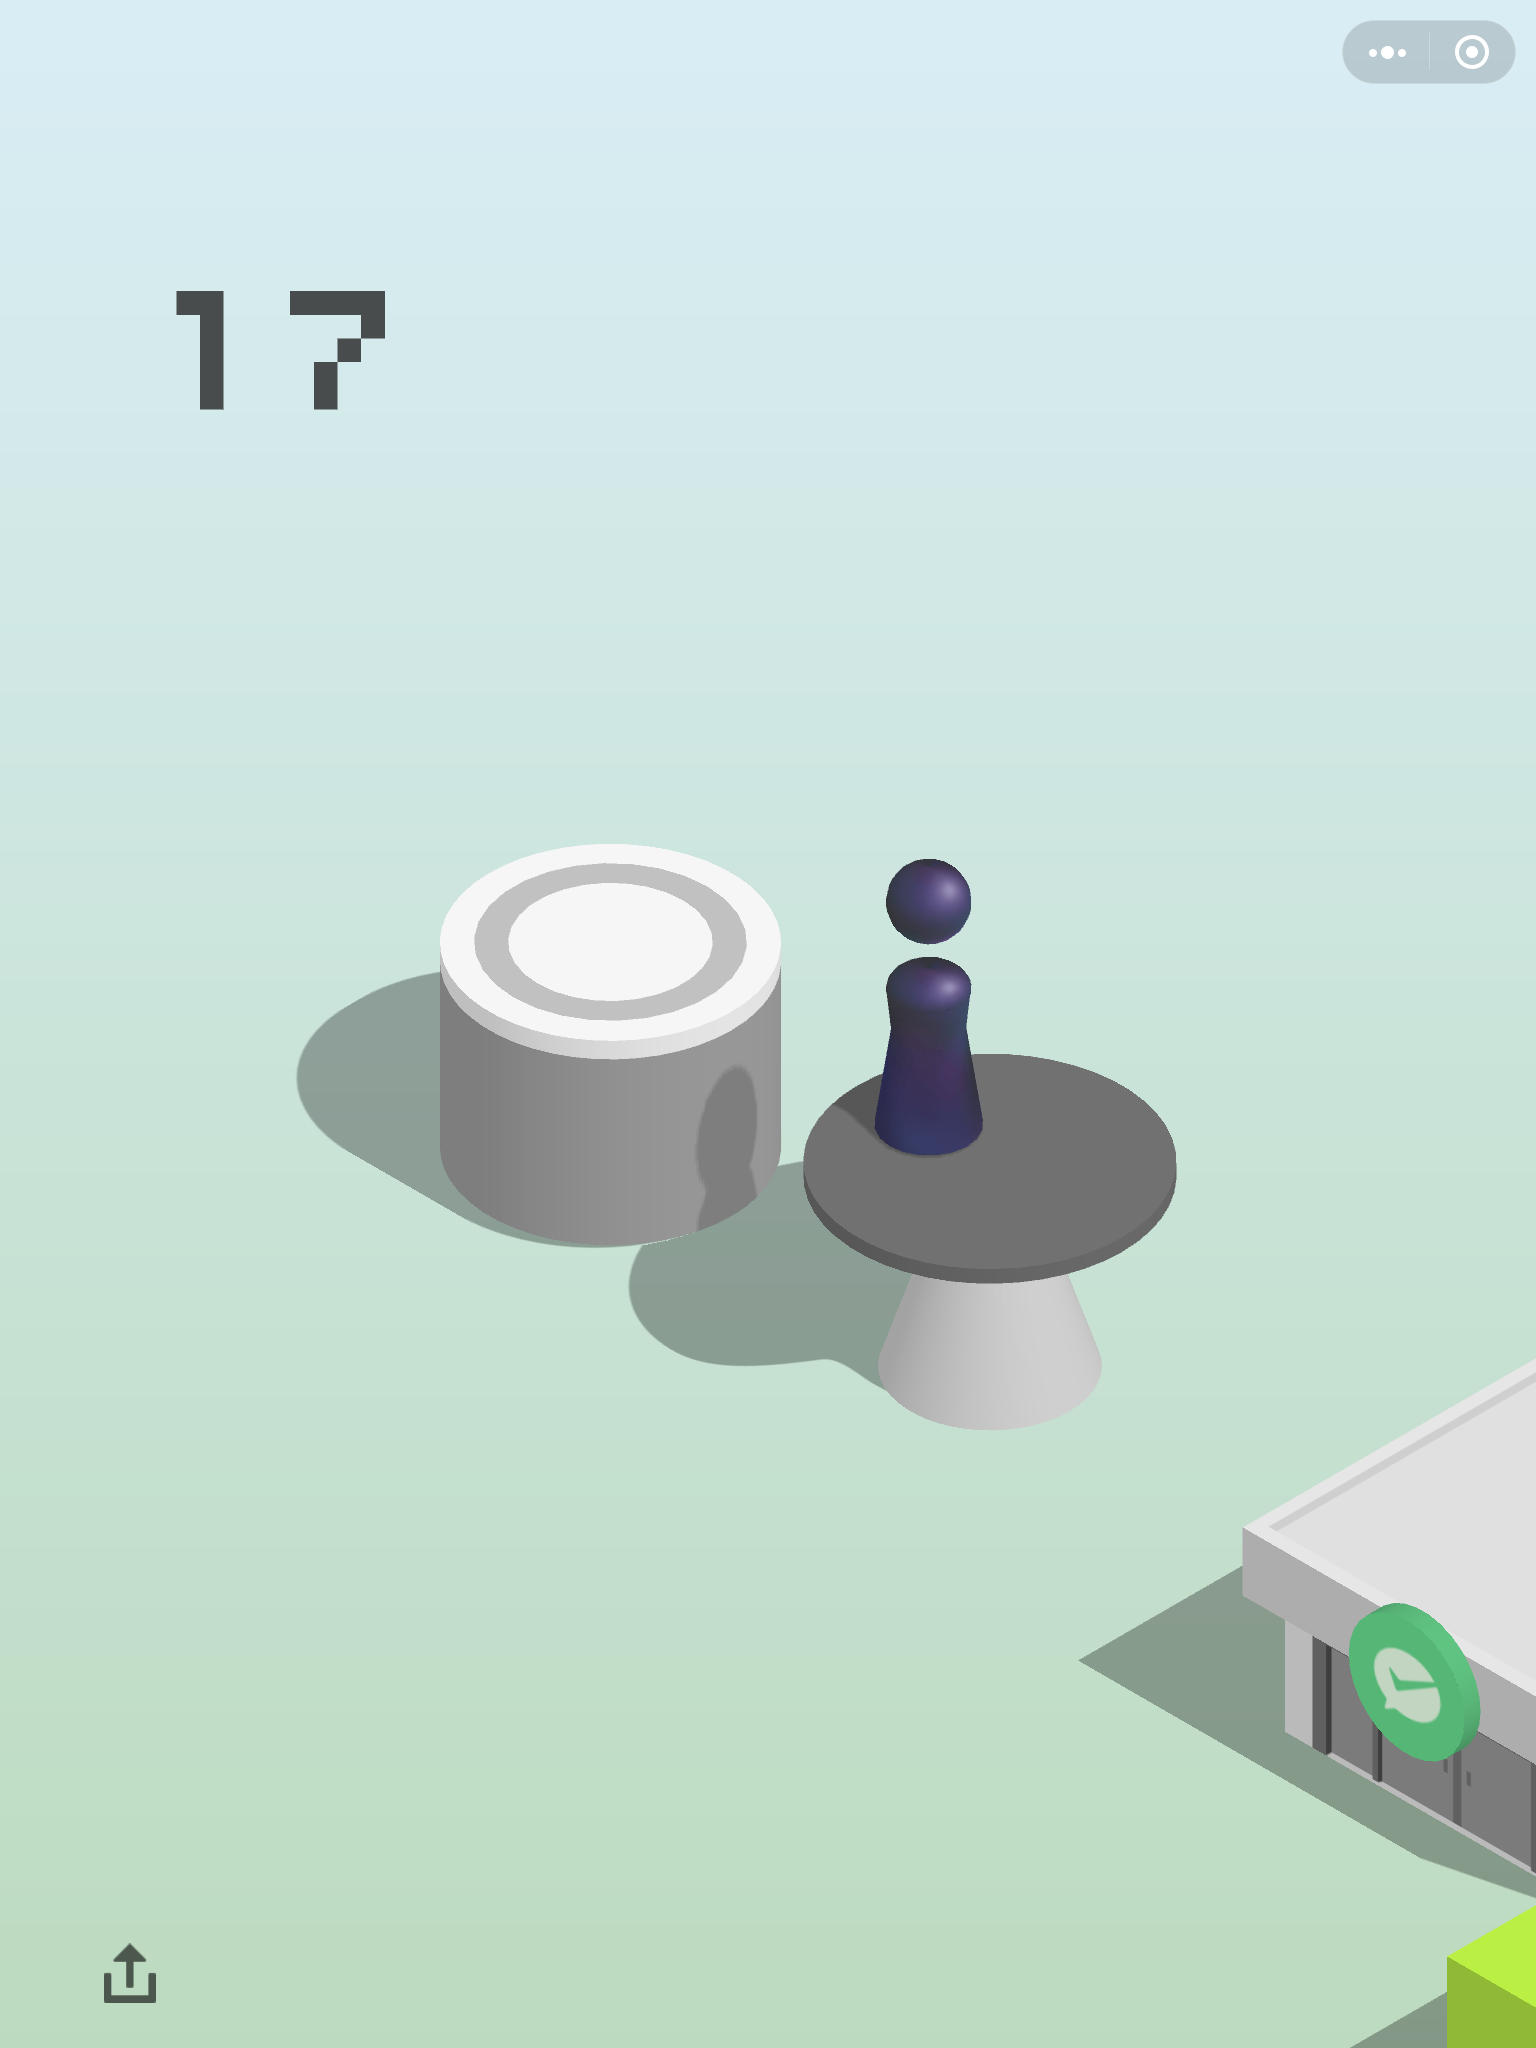c: (431, 835, 791, 1255), (800, 1050, 1181, 1434)
f: (1234, 1335, 1536, 1888)
r: (866, 851, 991, 1163)
